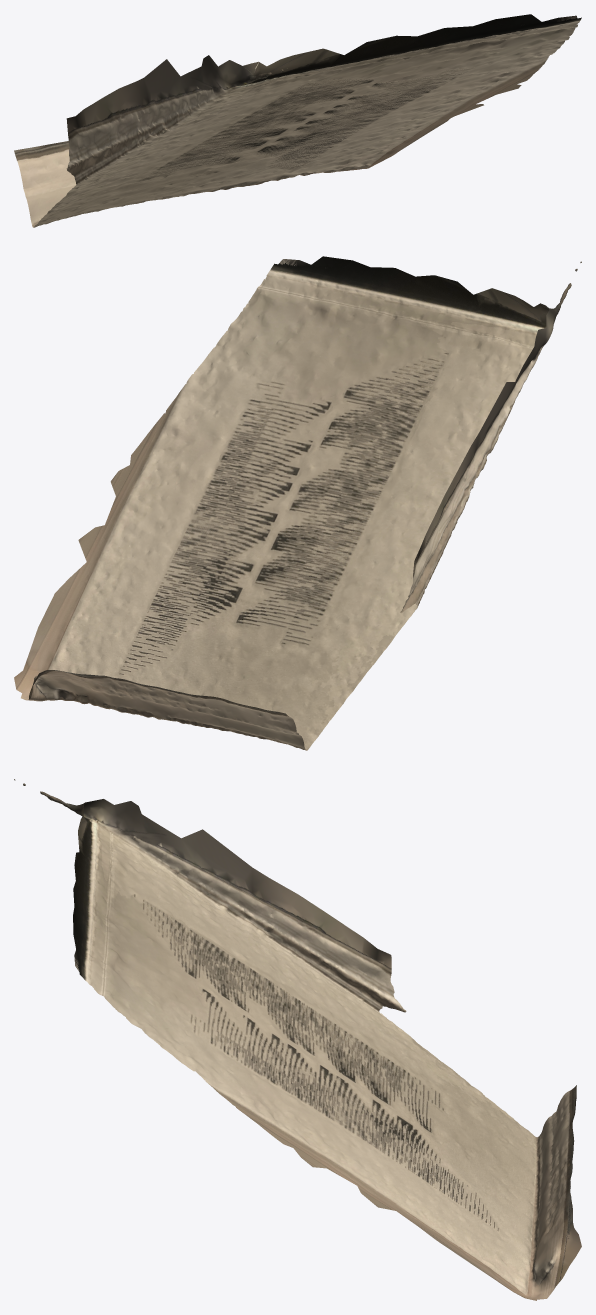
File: Transversal.glb
3 renders of one model, top to bottom at view 1: azimuth 30°, elevation 25°; view 2: azimuth 150°, elevation 25°; view 3: azimuth 270°, elevation 25°, orthographic. The views are drawn at different scales.
Parts seen in each view (by area): view 1: Transversal; view 2: Transversal; view 3: Transversal.
Boxes of the visible parts, box(x1,y1,x2,y2) form: Transversal: box(14, 14, 581, 227); Transversal: box(14, 256, 581, 750); Transversal: box(14, 779, 581, 1300).
Bounding box in the file's own units: 1.04 × 0.9538 × 1.37.
1 material, 1 textured.
